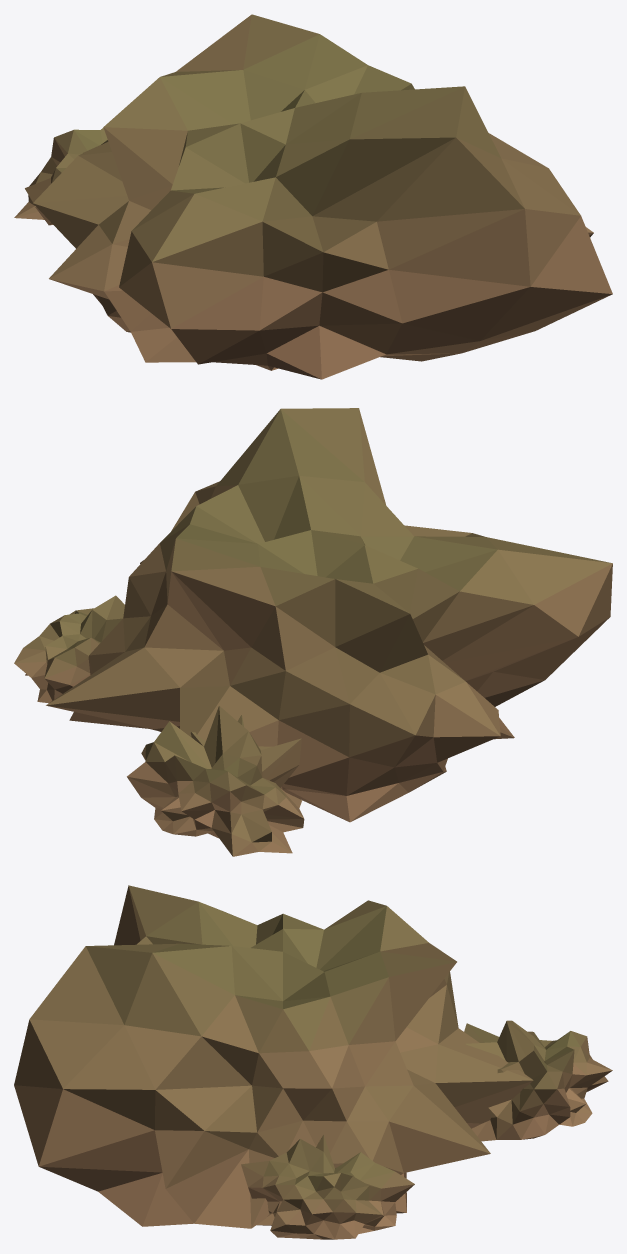
The model's file is rock_desert.glb.
3 views of the same model, one above another, from view 1: azimuth 30°, elevation 25°; view 2: azimuth 150°, elevation 25°; view 3: azimuth 270°, elevation 25° (orthographic). The views are drawn at different scales.
Visible parts, largest first — view 1: rock; view 2: rock; view 3: rock.
Part boxes in pixels (x1=…): rock: x1=14, y1=14, x2=612, y2=379; rock: x1=14, y1=408, x2=612, y2=856; rock: x1=14, y1=885, x2=612, y2=1239.
Size of the model in its own units: 4.2 by 2.2 by 4.83.
